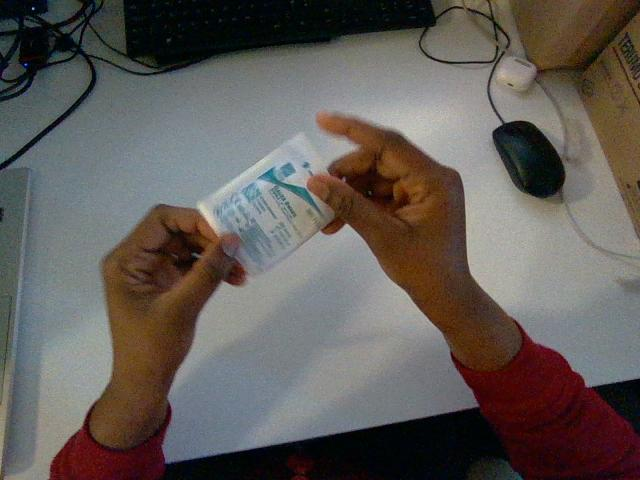gauze: (198, 133, 333, 275)
